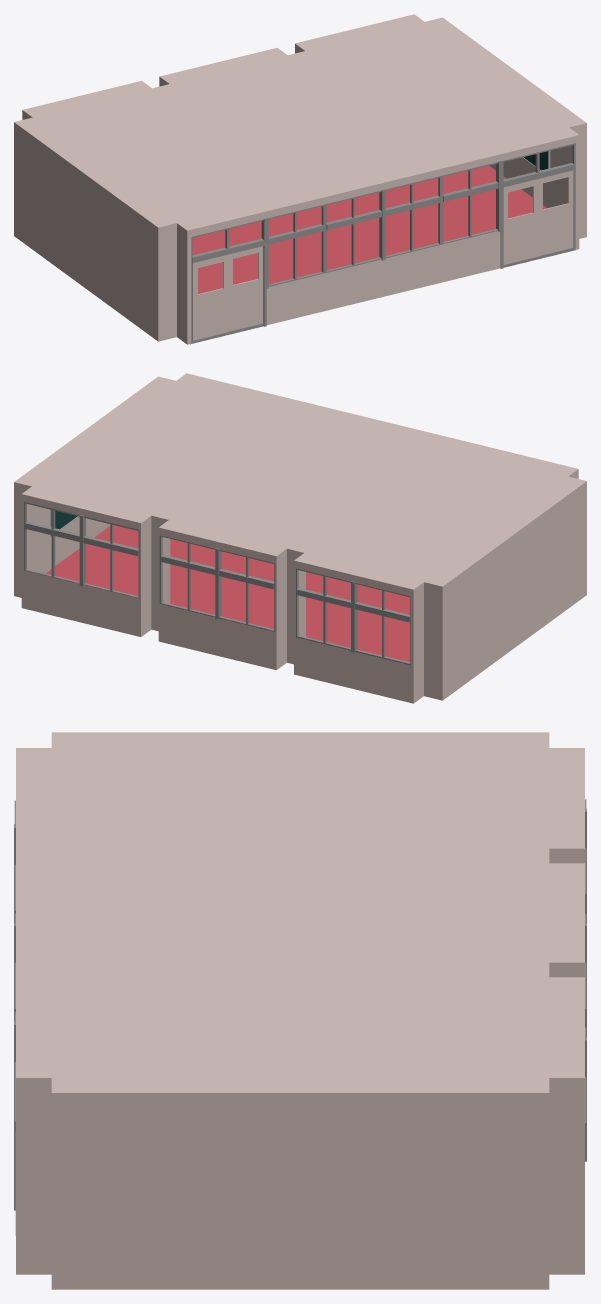
Rendered from classroom_3.glb.
3 renders of one model, top to bottom at view 1: azimuth 30°, elevation 25°; view 2: azimuth 150°, elevation 25°; view 3: azimuth 270°, elevation 25°, orthographic. The views are drawn at different scales.
Visible parts, largest first — view 1: 教室.002, ドア.001, ドア, 窓.006, 窓.004, 窓.005; view 2: 教室.002, 窓.002, 窓.001, 窓.003; view 3: 教室.002.
Part boxes in pixels (box(x1,y1,x2,y2)): 教室.002: box(14, 14, 586, 344); ドア.001: box(192, 246, 263, 340); ドア: box(503, 170, 573, 264); 窓.006: box(441, 143, 575, 268); 窓.004: box(190, 204, 324, 344); 窓.005: box(325, 176, 441, 273); 教室.002: box(14, 373, 586, 703); 窓.002: box(159, 535, 275, 631); 窓.001: box(24, 502, 139, 598); 窓.003: box(296, 568, 410, 665); 教室.002: box(16, 732, 584, 1289).
Size of the model in its own units: 12.12 by 3.09 by 8.14.
